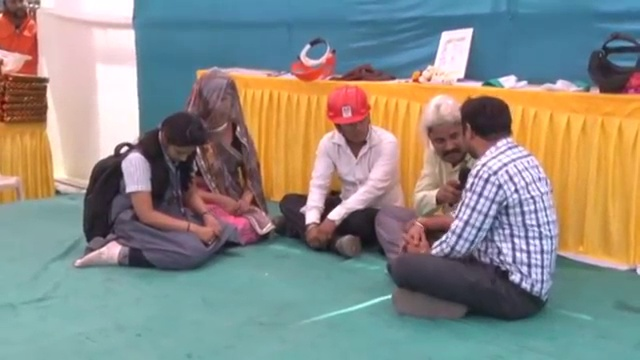helmet: (323, 86, 373, 131), (0, 48, 34, 75)
helmet_off: (458, 96, 516, 167), (191, 70, 242, 136), (420, 95, 468, 163), (152, 112, 209, 169), (0, 0, 36, 23)
helmet_on: (324, 85, 379, 145)
person: (383, 90, 563, 318), (267, 78, 426, 261), (73, 110, 232, 271), (179, 69, 276, 254), (376, 92, 477, 257), (0, 1, 42, 72)
